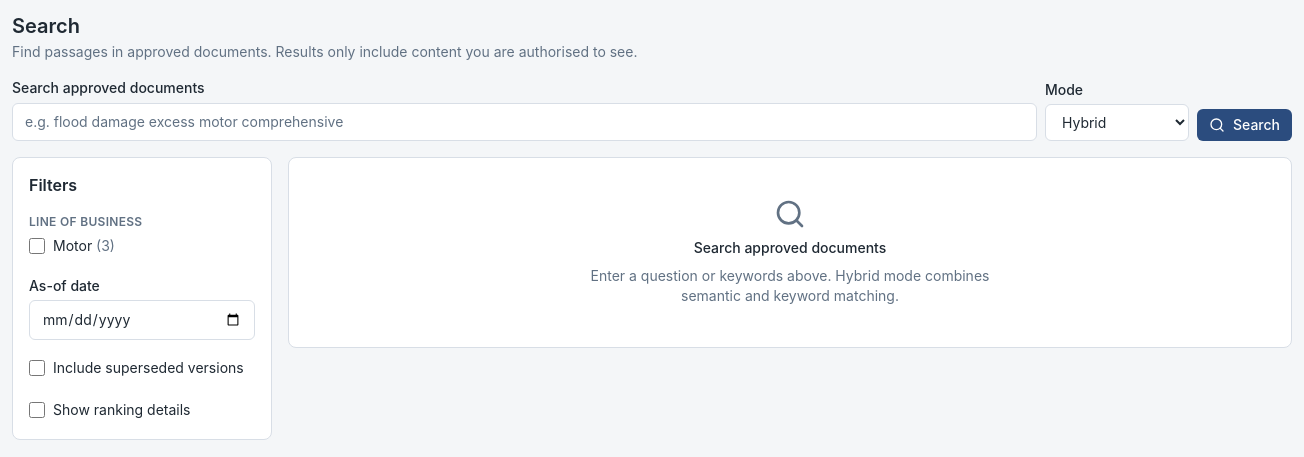
Scenario: search › submits the query, renders backend results with highlights, and sanitises the markup
Type "flood" into the search field labelled "Search approved documents" at [524, 122], box [12,103,1037,141]
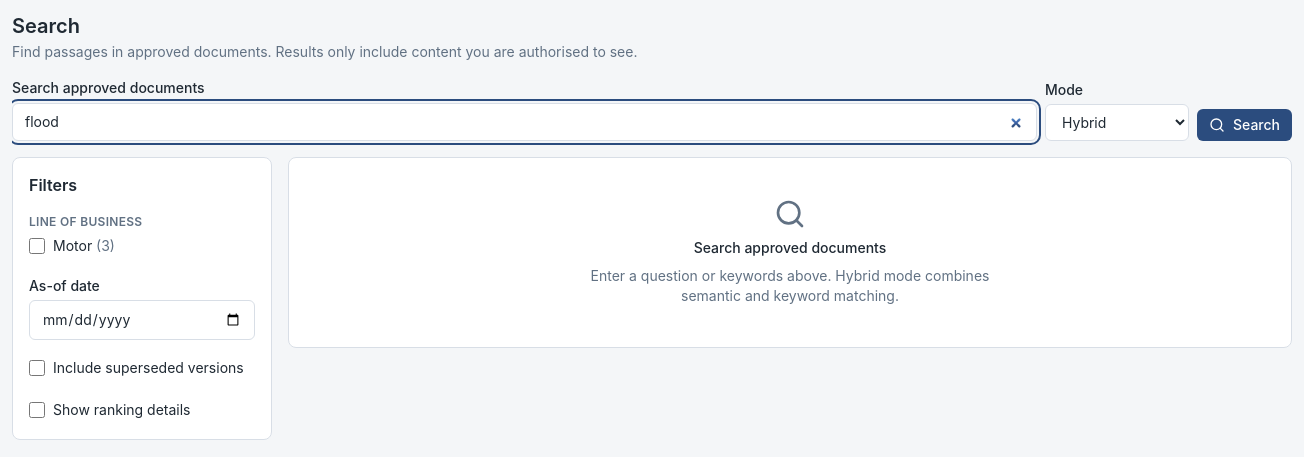
Click the button "Search" at [1244, 125], box [1197,109,1292,141]
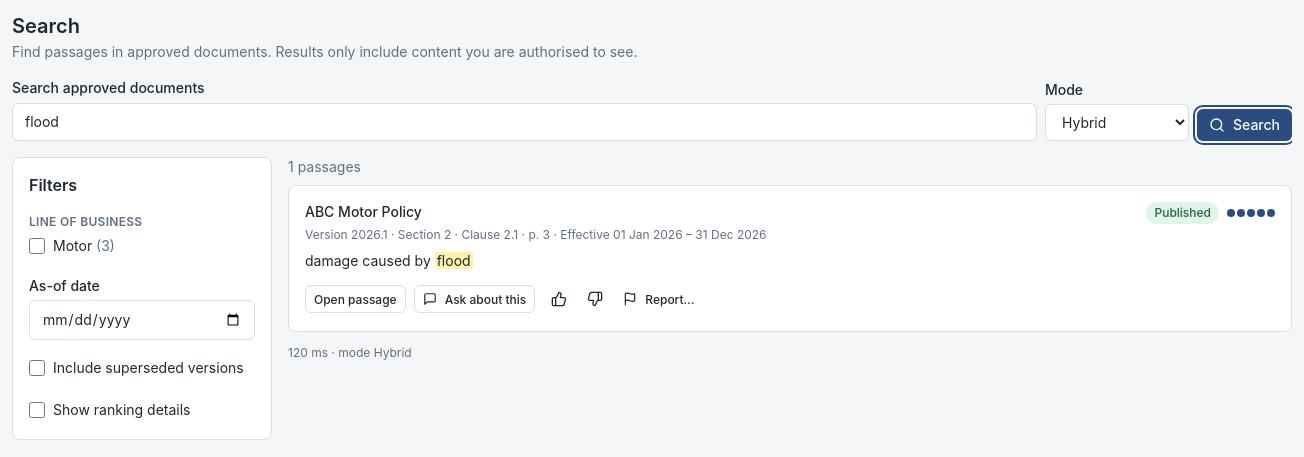
Check: the heading "ABC Motor Policy" is shown, box [305,202,422,222]
Check: the text "flood" is shown, box [435,252,473,269]
Check: the text "Version 2026.1" is shown, box [305,227,767,242]
